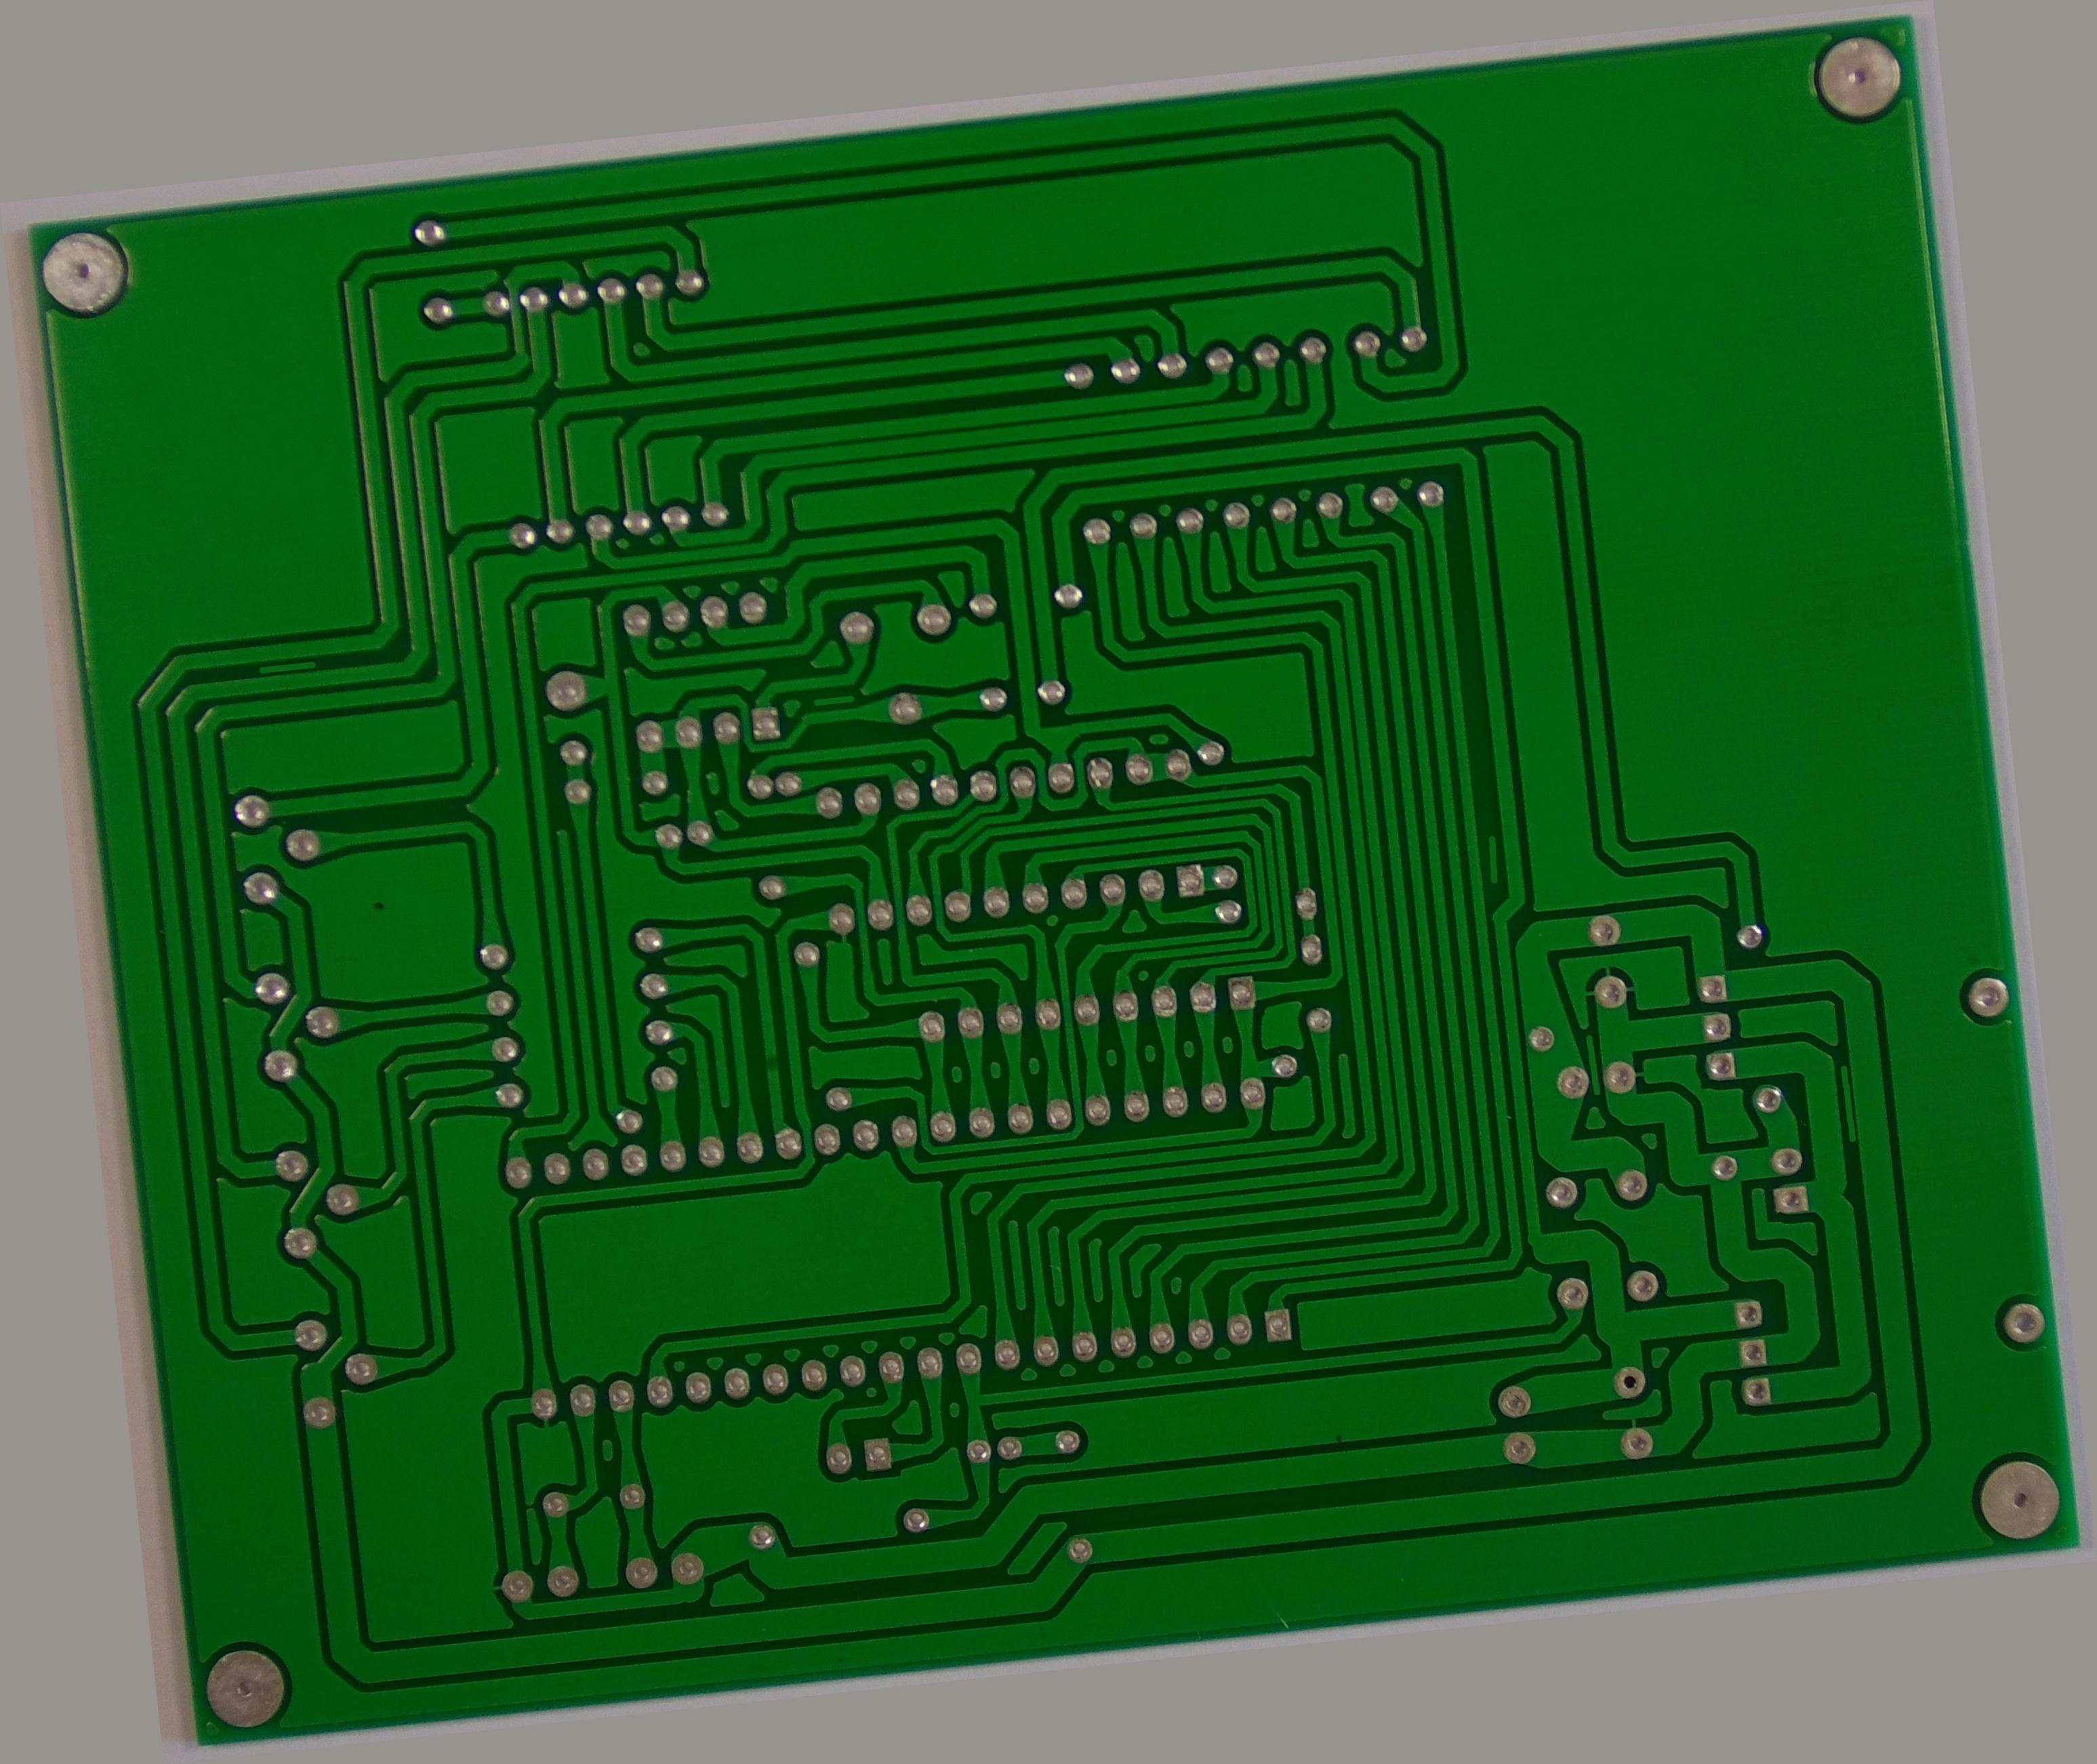spurious_copper: (1588, 1102, 1637, 1204), (215, 535, 291, 576), (1871, 1171, 1896, 1274), (809, 639, 872, 670), (1511, 870, 1537, 943)
